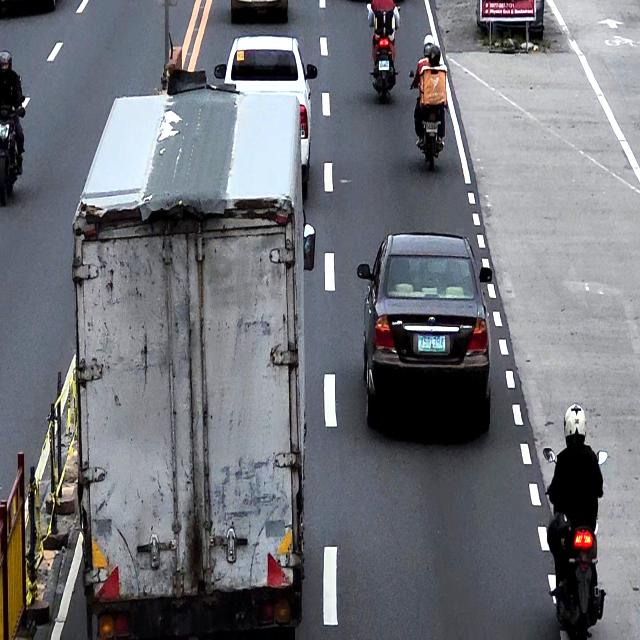Car: (356, 231, 493, 437), (216, 36, 318, 184)
License-Plate: (418, 334, 445, 354), (425, 122, 439, 134), (378, 60, 390, 71)
Motorcycle: (543, 444, 608, 640), (408, 67, 447, 172), (367, 2, 401, 109)
Truck: (71, 90, 315, 640)
